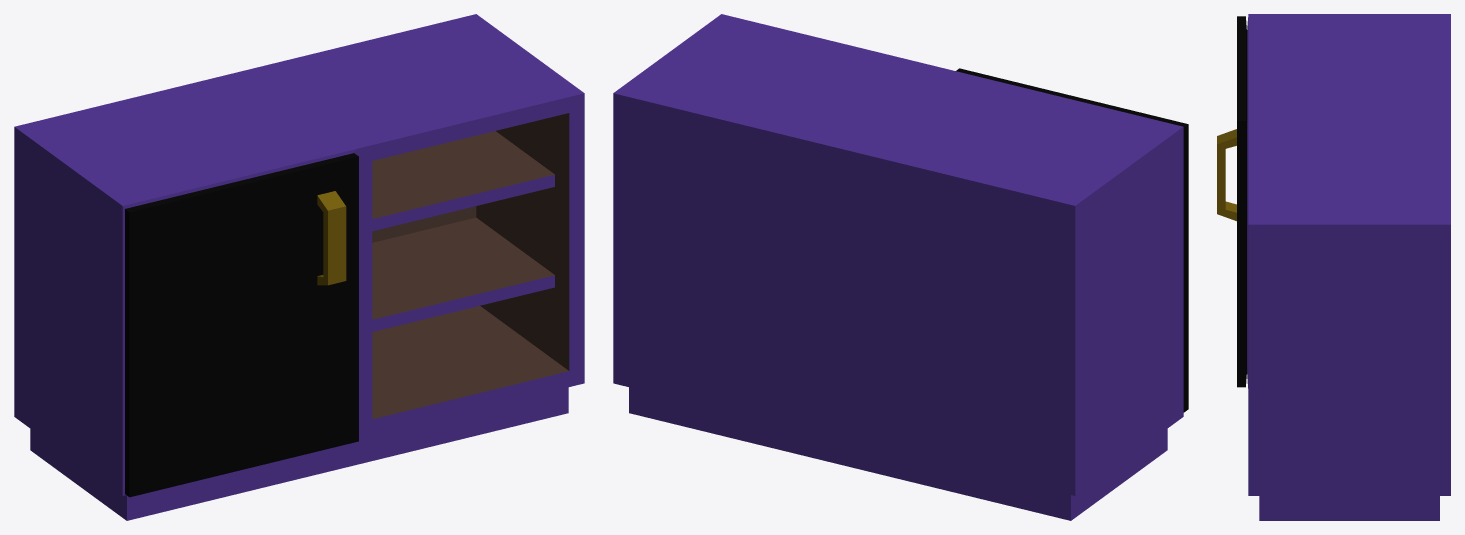
Rendered from cabinet2.fbx.
3 renders of one model, left to right at view 1: azimuth 30°, elevation 25°; view 2: azimuth 150°, elevation 25°; view 3: azimuth 270°, elevation 25°, orthographic. The views are drawn at different scales.
Visible parts, largest first — view 1: cabinet2; view 2: cabinet2; view 3: cabinet2.
Part boxes in pixels (x1=…): cabinet2: x1=14, y1=14, x2=584, y2=520; cabinet2: x1=613, y1=14, x2=1188, y2=520; cabinet2: x1=1217, y1=14, x2=1450, y2=520.
Bounding box in the file's own units: 105 × 70 × 49.3.
